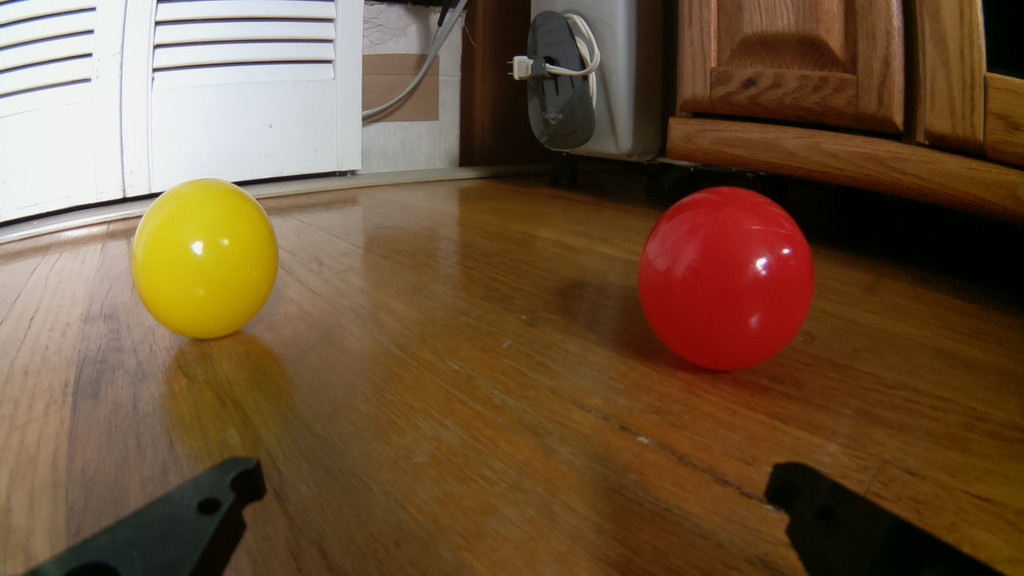ball: (126, 176, 284, 342)
